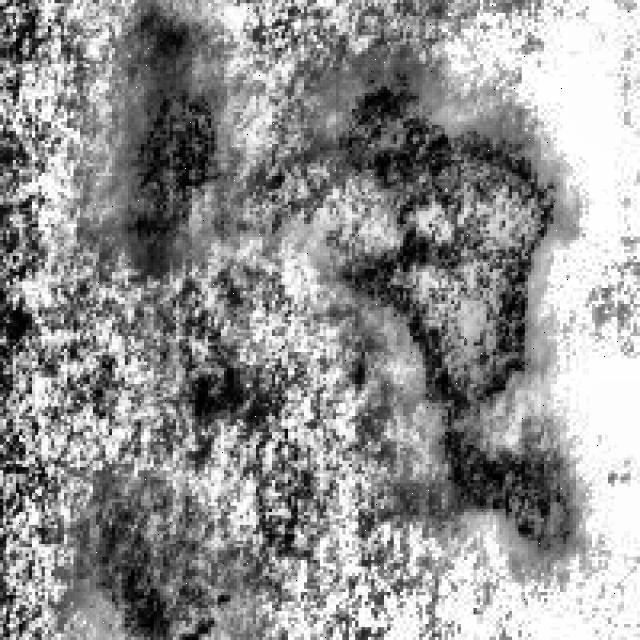Scratches: (320, 51, 570, 541), (105, 9, 234, 272), (77, 506, 173, 634)
